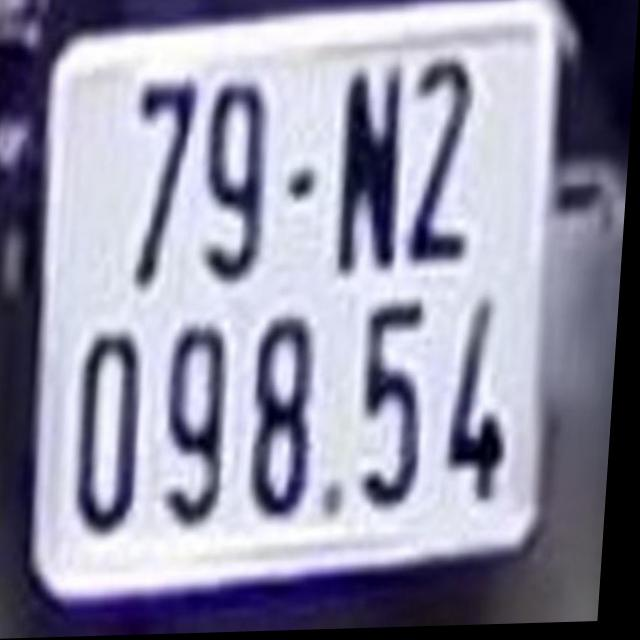0: (81, 334, 153, 534)
2: (410, 55, 485, 267)
4: (451, 299, 524, 500)
5: (362, 299, 438, 507)
7: (131, 81, 205, 281)
8: (253, 317, 322, 524)
9: (168, 320, 239, 529), (205, 80, 275, 291)
N: (339, 70, 413, 278)
